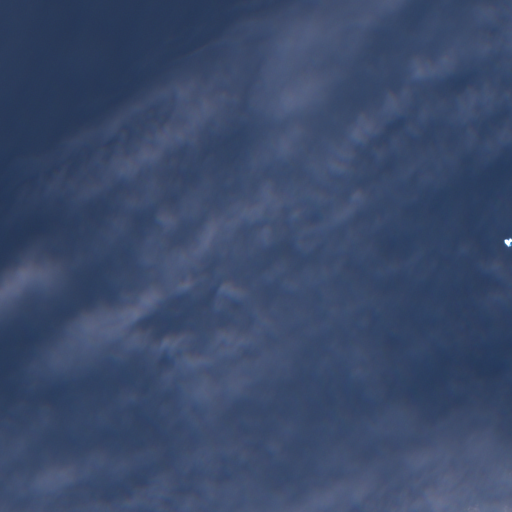Iceberg: (504, 238, 511, 246)
